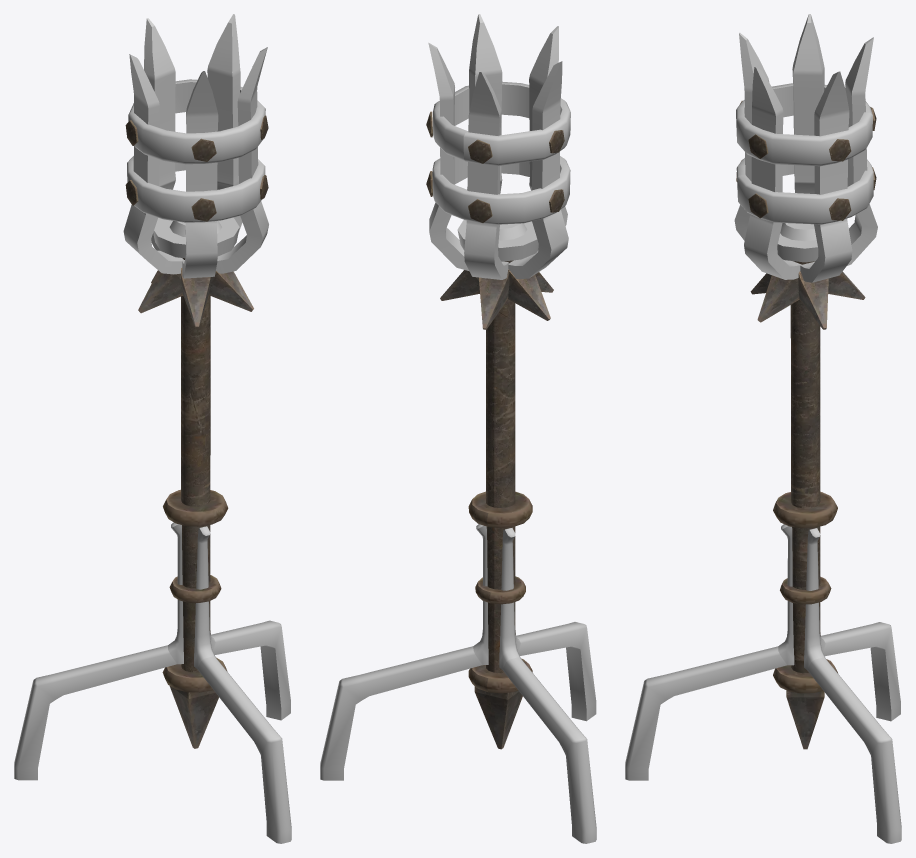
3 renders of one model, left to right at view 1: azimuth 30°, elevation 25°; view 2: azimuth 150°, elevation 25°; view 3: azimuth 270°, elevation 25°, orthographic.
Visible parts, largest first — view 1: SM_DR_FloorTorch_01_LOD0; view 2: SM_DR_FloorTorch_01_LOD0; view 3: SM_DR_FloorTorch_01_LOD0.
Part boxes in pixels (x1=…): SM_DR_FloorTorch_01_LOD0: x1=14, y1=14, x2=291, y2=843; SM_DR_FloorTorch_01_LOD0: x1=320, y1=14, x2=596, y2=843; SM_DR_FloorTorch_01_LOD0: x1=625, y1=14, x2=901, y2=843.
Bounding box in the file's own units: 0.7289 × 1.86 × 0.635.
